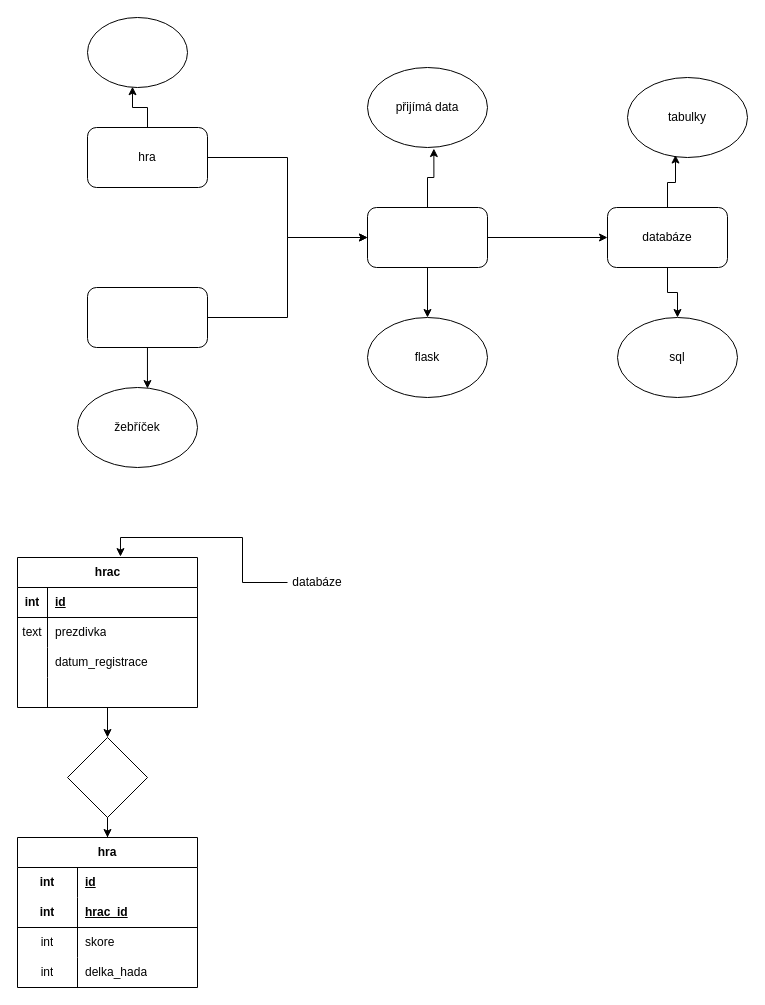
This 765x1005 diagram has some shape labels left out. The shapes that lost their labels are listed below. From the top down, each one's centre as x and y in pixels, then its label:
At point (137, 52): "skóre".
At point (427, 237): "webový server".
At point (147, 317): "webová stránka".
At point (107, 777): "odehraje".
